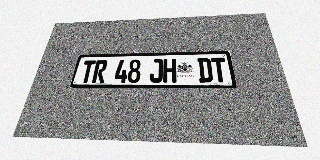4: (114, 60, 129, 83)
8: (127, 59, 142, 83)
D: (197, 58, 213, 82)
H: (163, 59, 176, 83)
J: (149, 59, 163, 83)
R: (92, 60, 108, 83)
T: (211, 57, 228, 82), (79, 60, 96, 83)
